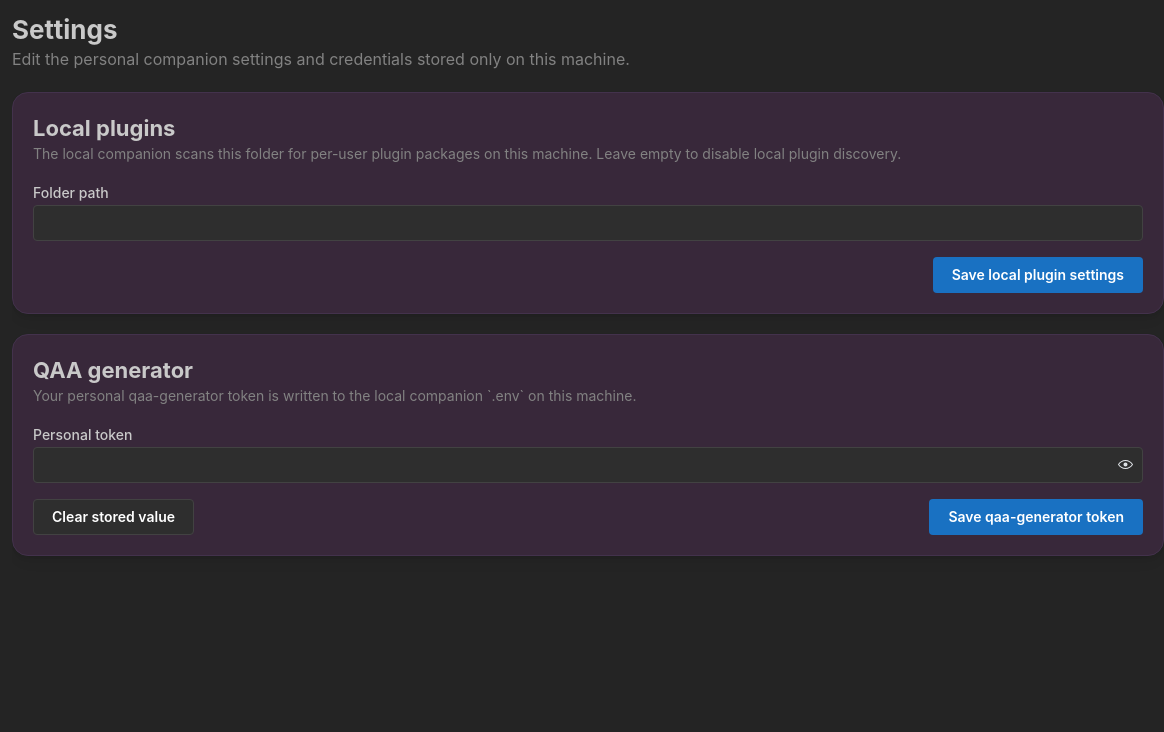
Test case: SettingsPanel › renders QAA generator personal token settings and saves them through the companion
The image size is (1164, 732).
Expected: the heading "QAA generator" is shown, [33,357,193,383]
Type "personal-token" into the password field labelled "Personal token" at (588, 465), box [34,448,1142,482]
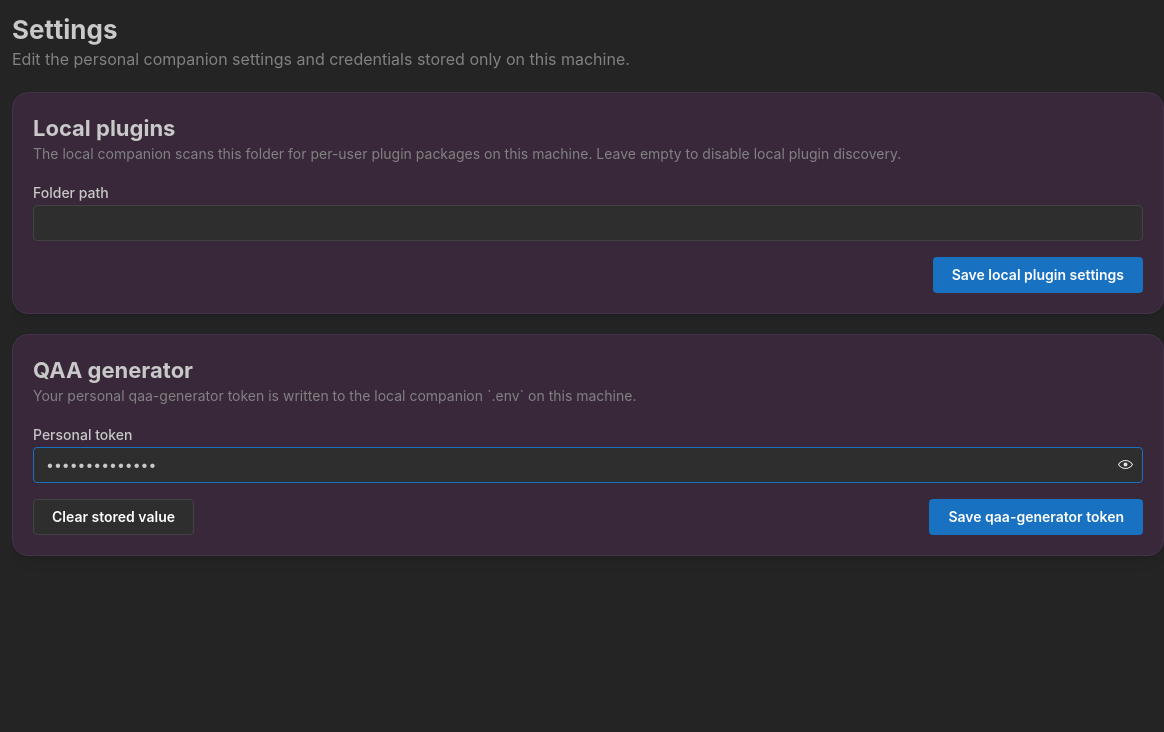
Click the button "Save qaa-generator token" at (1036, 517), box [929,499,1143,535]
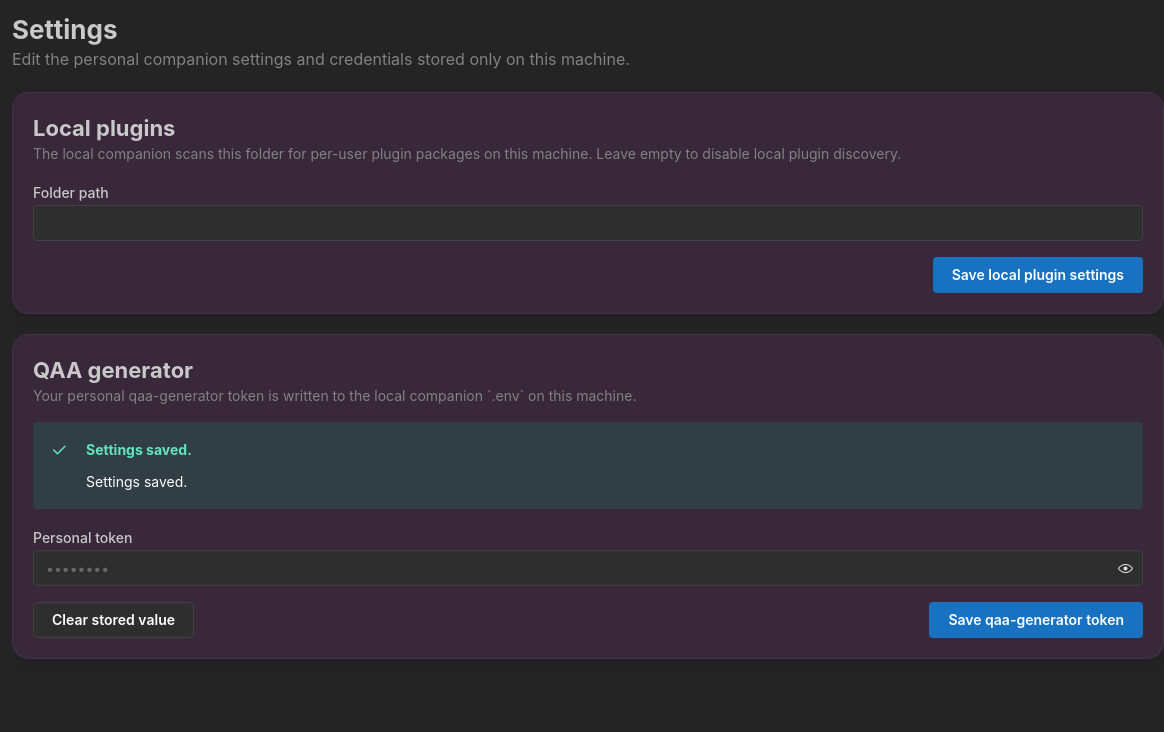
Expected: the 1st text "Settings saved." is shown, [86,439,192,461]
